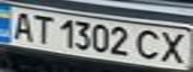0: (90, 21, 112, 55)
1: (54, 16, 75, 48)
2: (109, 24, 133, 57)
3: (69, 19, 93, 52)
A: (6, 9, 39, 42)
C: (133, 27, 166, 62)
T: (27, 12, 57, 45)
X: (157, 29, 193, 65)
